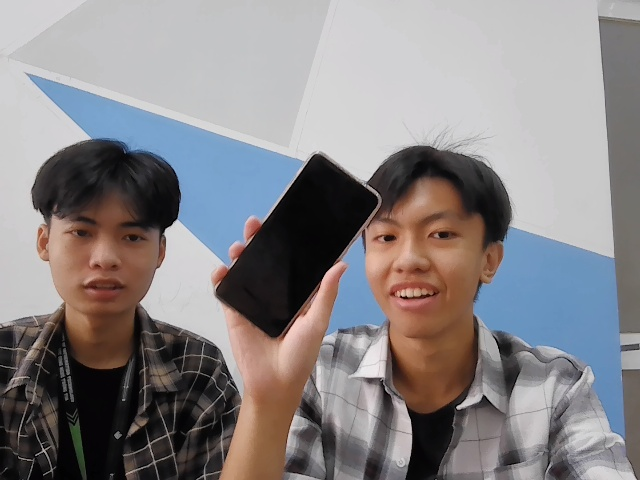human: (359, 145, 511, 341), (33, 139, 182, 317)
phone: (212, 149, 382, 343)
